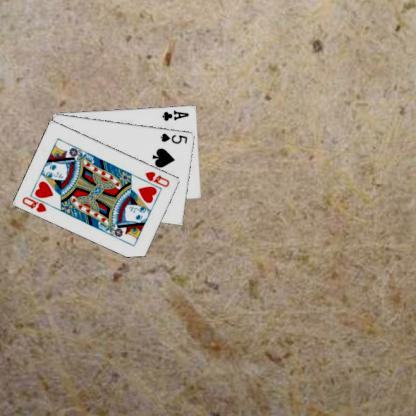5S: (158, 130, 189, 145)
AC: (160, 107, 190, 122)
QH: (19, 192, 53, 214), (142, 169, 172, 188)
